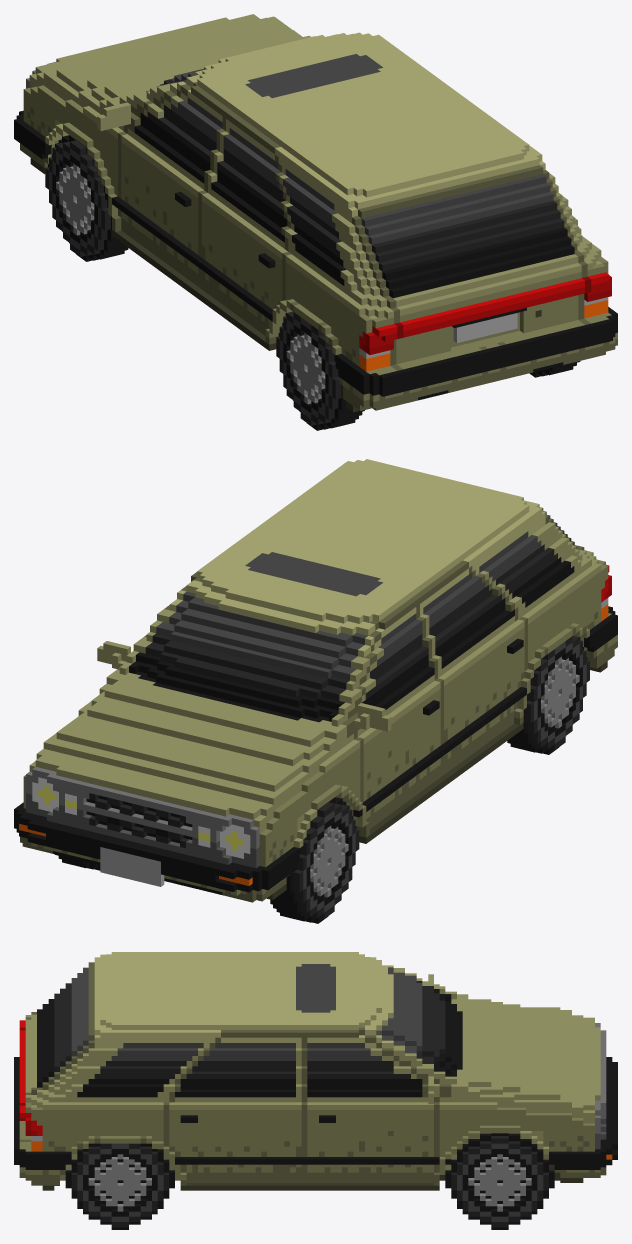
The picture shows the model from 3 angles, top to bottom: view 1: azimuth 30°, elevation 25°; view 2: azimuth 150°, elevation 25°; view 3: azimuth 270°, elevation 25°; orthographic projection. The views are drawn at different scales.
Visible parts, largest first — view 1: VOX; view 2: VOX; view 3: VOX.
Part boxes in pixels (x1,y1,x2,y2): VOX: (14, 14, 617, 430); VOX: (14, 459, 617, 923); VOX: (14, 952, 617, 1229).
Size of the model in its own units: 0.048 by 0.037 by 0.105.
